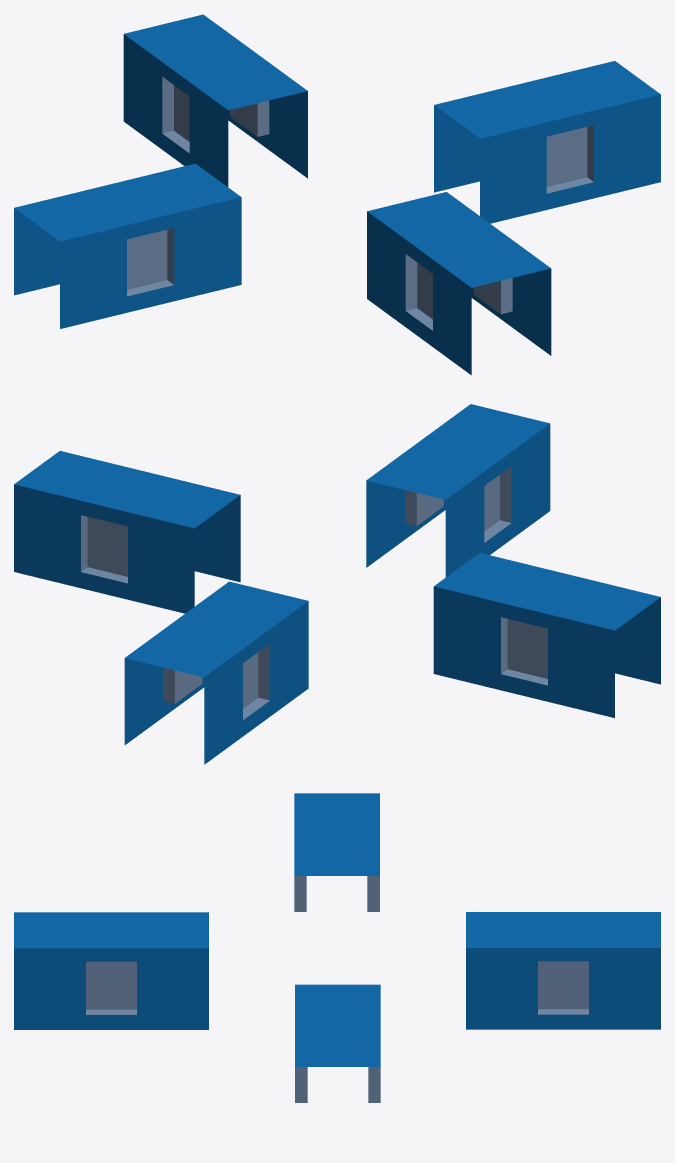
Rendered from Shop_Corridors.fbx.
3 renders of one model, top to bottom at view 1: azimuth 30°, elevation 25°; view 2: azimuth 150°, elevation 25°; view 3: azimuth 270°, elevation 25°, orthographic. The views are drawn at different scales.
Visible parts, largest first — view 1: Shop_Corridors; view 2: Shop_Corridors; view 3: Shop_Corridors.
Part boxes in pixels (x1,y1,x2,y2): Shop_Corridors: (14,14,660,375); Shop_Corridors: (14,404,660,764); Shop_Corridors: (14,793,660,1102).
Bounding box in the file's own units: 129 × 17.94 × 129.
